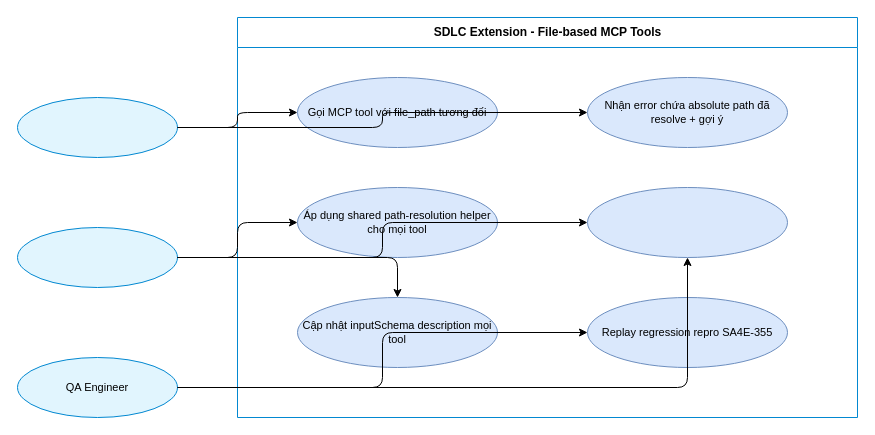
The diagram is 875 pixels wide and 435 high, and some of its shapes have lost their labels. The box of each missing label's shape, as (x1, y1, x2, y2) in pixels:
Chạy unit test path resolution (relative / absolute / escape / multi-root): (586, 186, 788, 258)
Extension Developer: (16, 226, 178, 288)
SDLC AI Agent (MCP Client): (16, 96, 178, 158)
